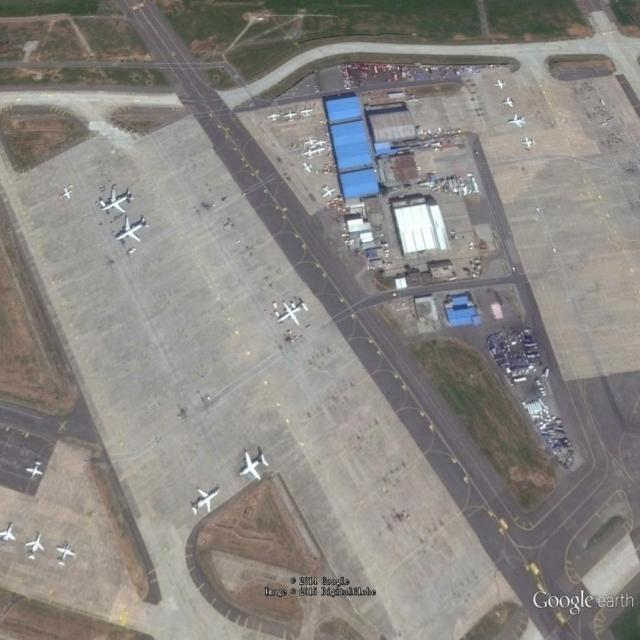aircraft: (238, 447, 272, 485), (98, 183, 136, 216), (189, 485, 223, 520), (115, 214, 151, 245), (277, 299, 312, 329), (24, 530, 47, 564), (54, 542, 78, 570), (25, 460, 47, 483), (508, 112, 529, 131), (520, 133, 539, 153), (1, 523, 18, 544), (282, 107, 299, 125), (59, 185, 74, 204), (322, 183, 338, 200), (502, 94, 519, 110), (299, 105, 315, 120), (304, 134, 318, 151), (495, 78, 509, 93), (302, 160, 315, 176), (266, 112, 282, 124), (314, 137, 329, 149), (303, 148, 318, 159), (315, 147, 326, 156)
